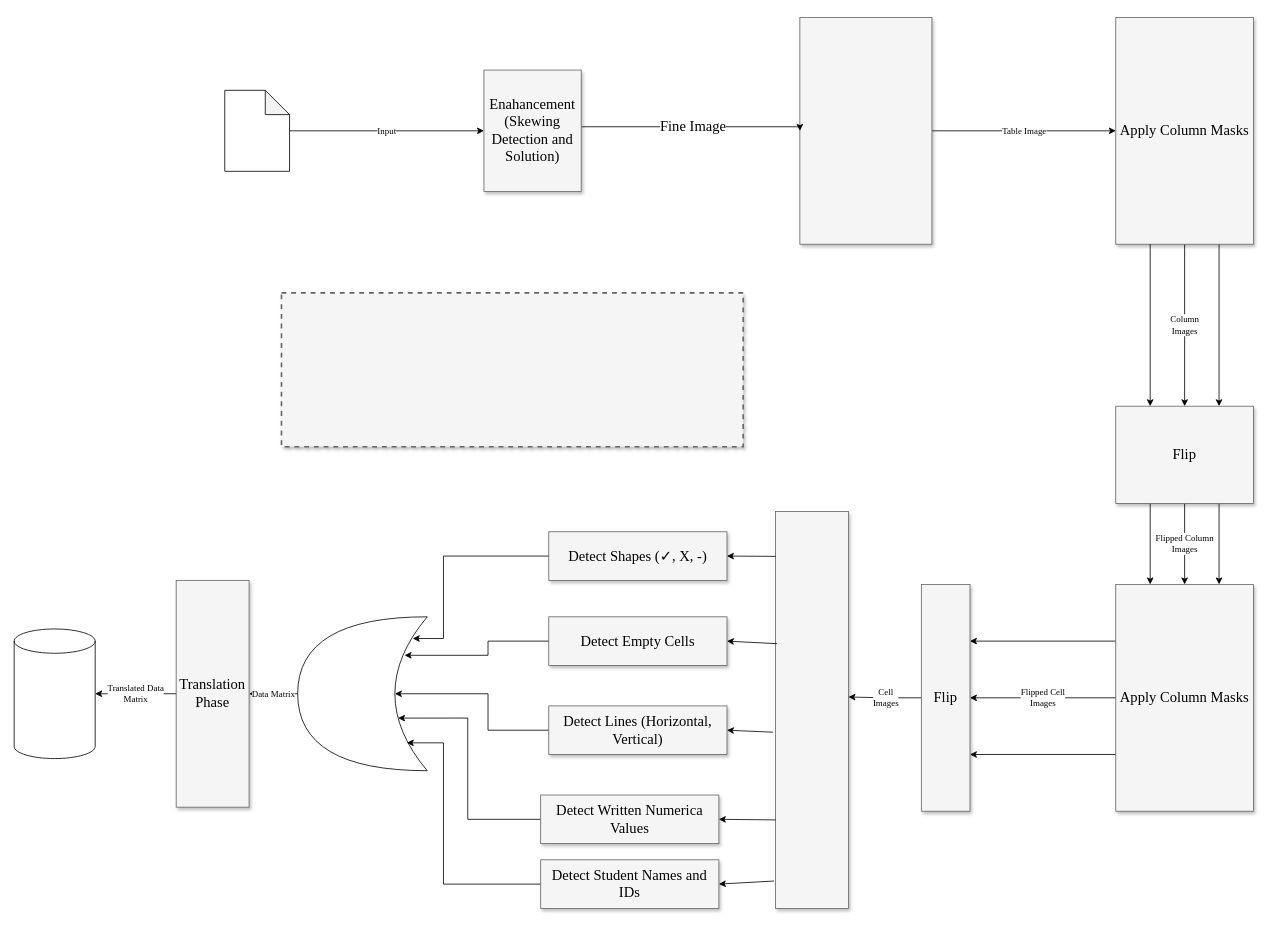
This 1273x928 diagram has some shape labels left out. The centre of each missing label's shape, as x and y in pixels:
"Apply Table Mask" belongs at point (866, 131).
"CSV File" belongs at point (54, 693).
"Detection Phase" belongs at point (812, 711).
"Forming Matrix and Filling the data" belongs at point (362, 693).
"Grade Autofiller Software Control" belongs at point (512, 370).
"Original Image" belongs at point (257, 130).
